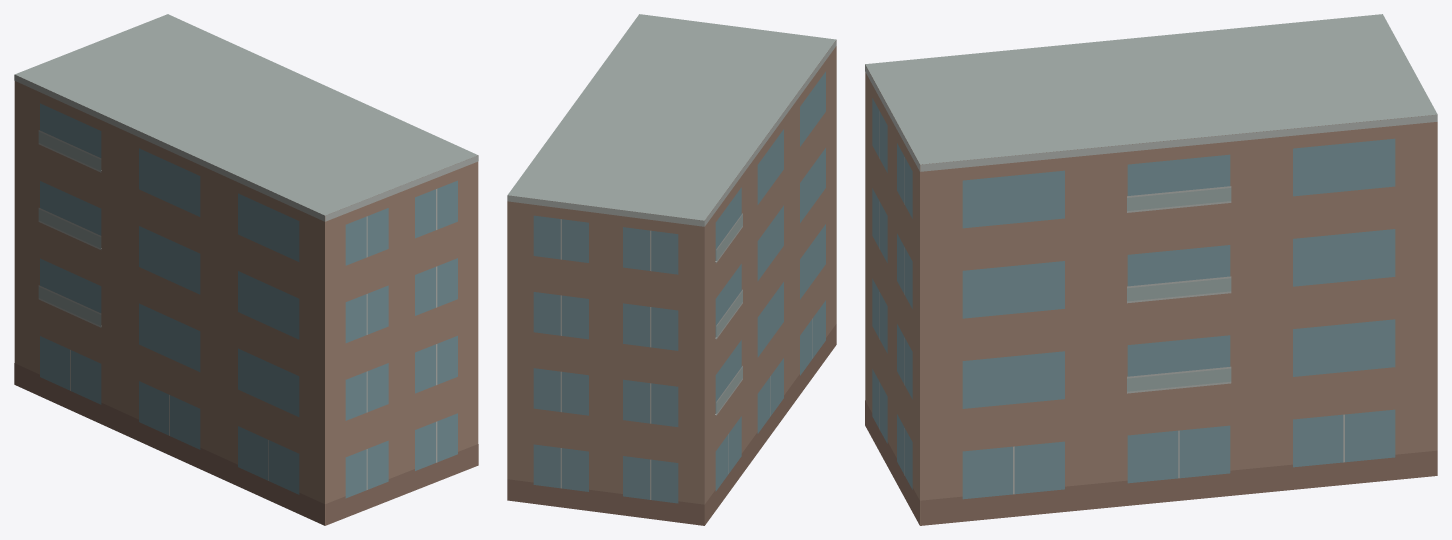
The model's file is survey-upis-32812077.glb.
3 views of the same model, side by side, from view 1: azimuth 30°, elevation 25°; view 2: azimuth 150°, elevation 25°; view 3: azimuth 270°, elevation 25° (orthographic). The views are drawn at different scales.
Parts seen in each view (by area): view 1: survey-upis-32812077.tmp; view 2: survey-upis-32812077.tmp; view 3: survey-upis-32812077.tmp.
Part boxes in pixels (x1=…): survey-upis-32812077.tmp: x1=14, y1=14, x2=478, y2=525; survey-upis-32812077.tmp: x1=507, y1=14, x2=836, y2=525; survey-upis-32812077.tmp: x1=865, y1=14, x2=1437, y2=525.
Bounding box in the file's own units: 10.92 × 12.2 × 17.54.
